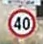limite 40: (6, 7, 36, 39)
